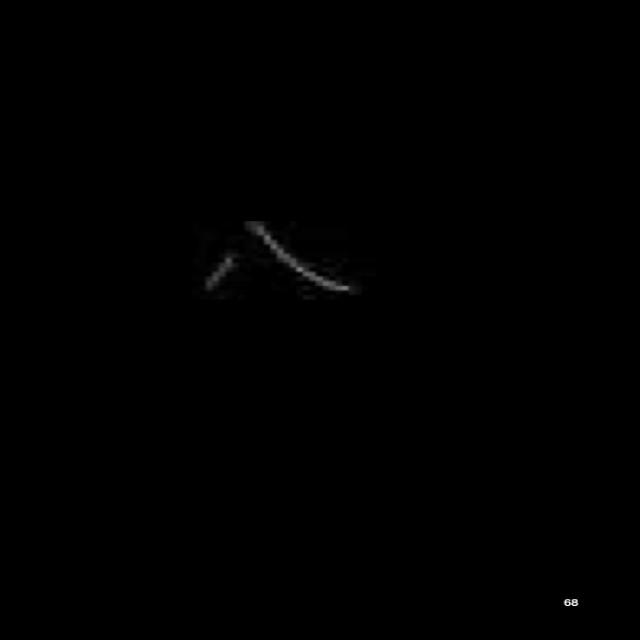8 -eight-: (188, 209, 375, 309)
